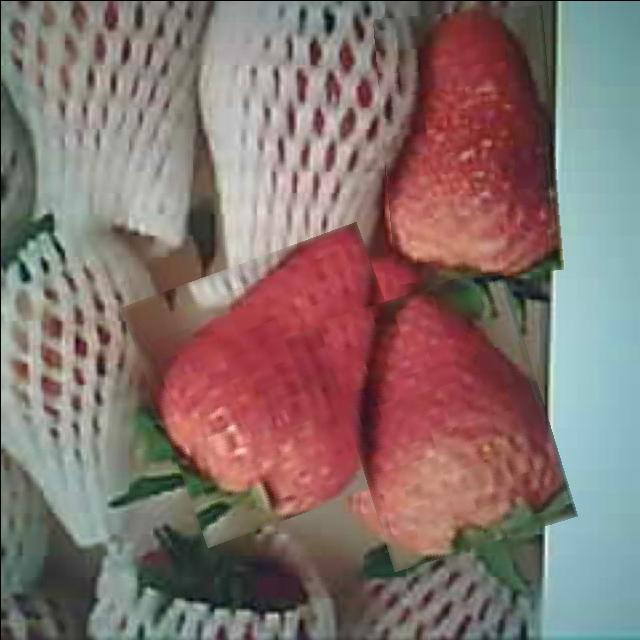strawberry: (137, 238, 424, 530), (334, 276, 560, 560), (378, 7, 558, 280)
